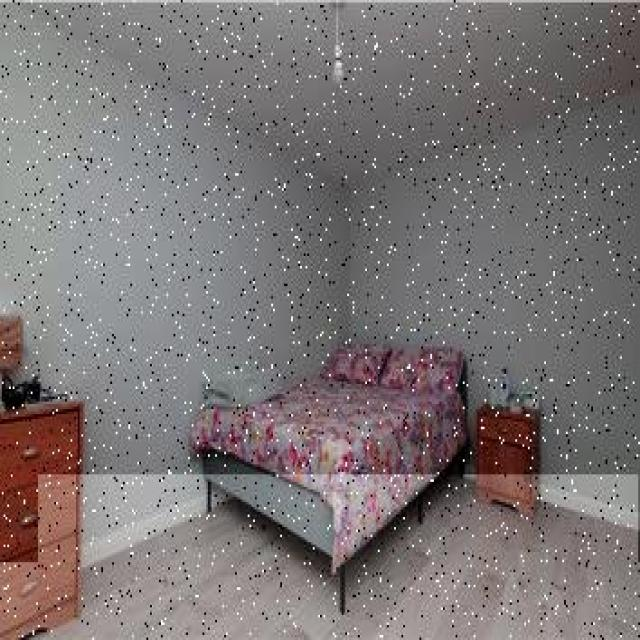Wall: (0, 4, 640, 561), (24, 0, 640, 183), (39, 476, 640, 637)
